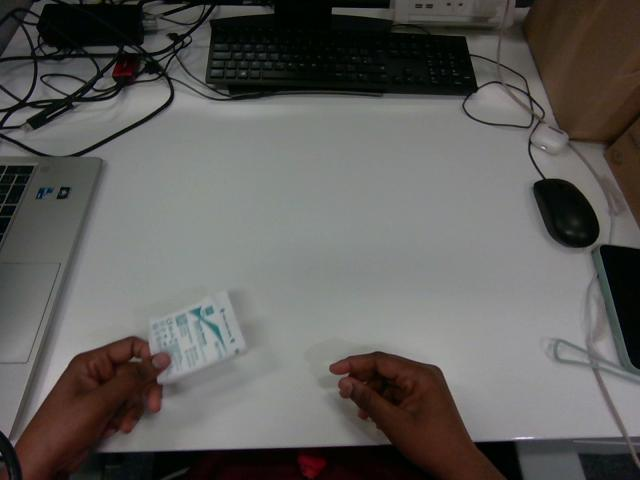gauze: (149, 292, 245, 383)
